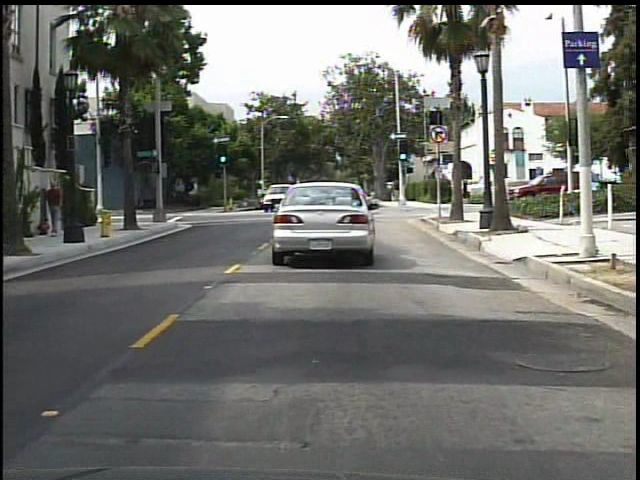person: (41, 178, 69, 242)
